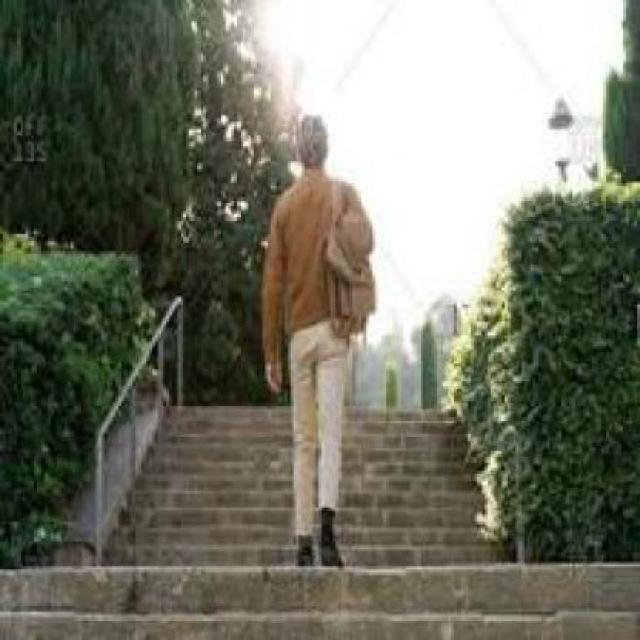stair: (95, 420, 522, 634)
